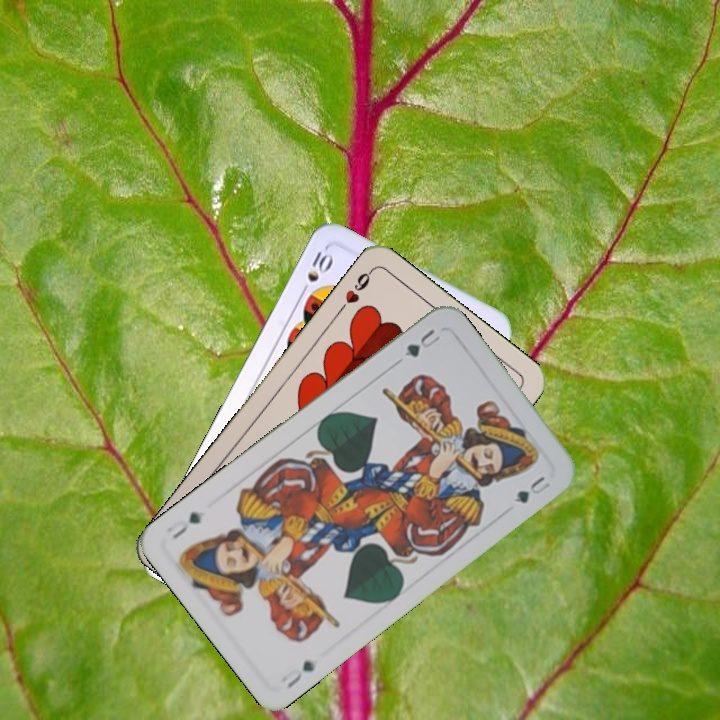GU: (400, 324, 443, 362), (283, 656, 319, 691)
H9: (334, 265, 376, 315)
S10: (296, 246, 336, 299)
